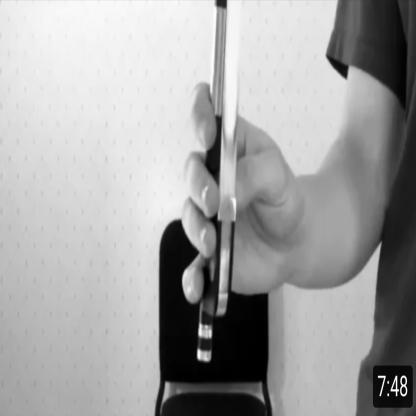good: (172, 38, 253, 381)
